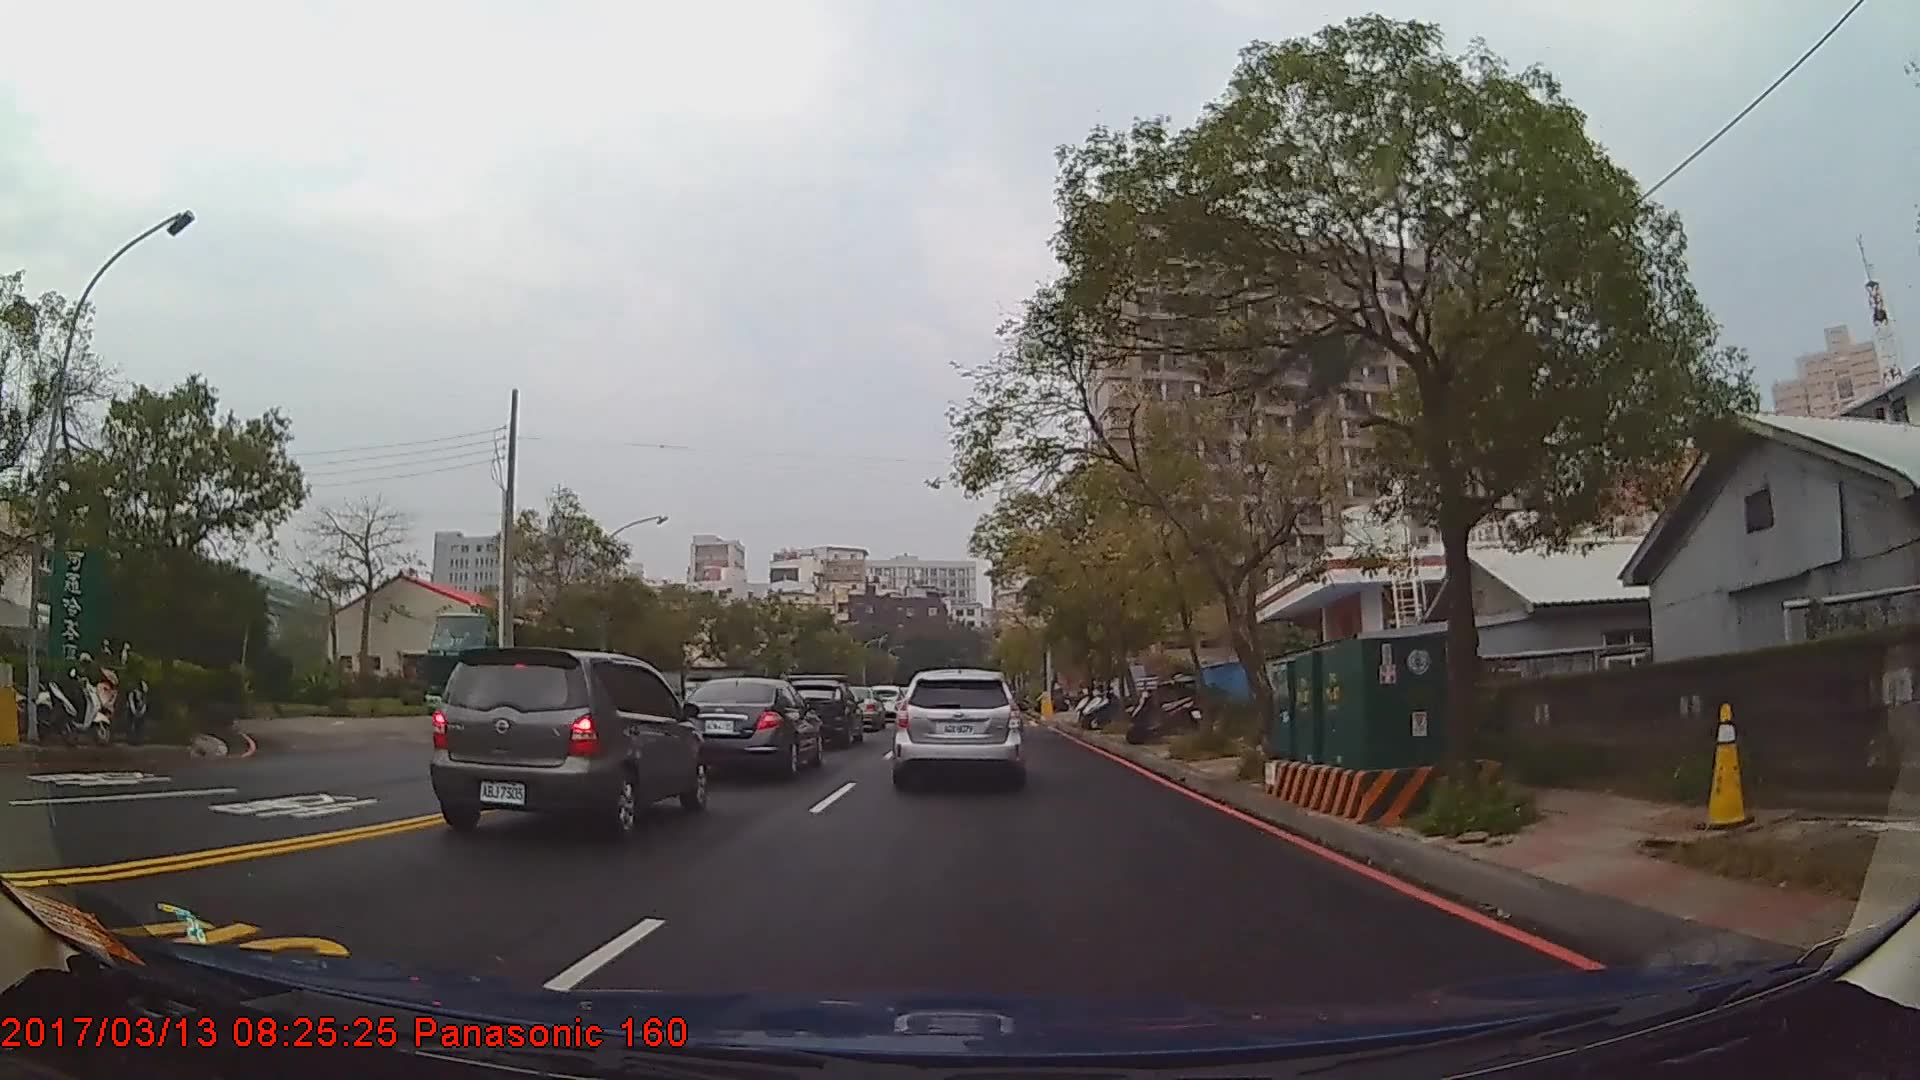vehicle: (426, 651, 709, 848), (429, 611, 603, 725), (891, 671, 1025, 789), (673, 678, 823, 778), (778, 678, 858, 745), (833, 684, 884, 731)
